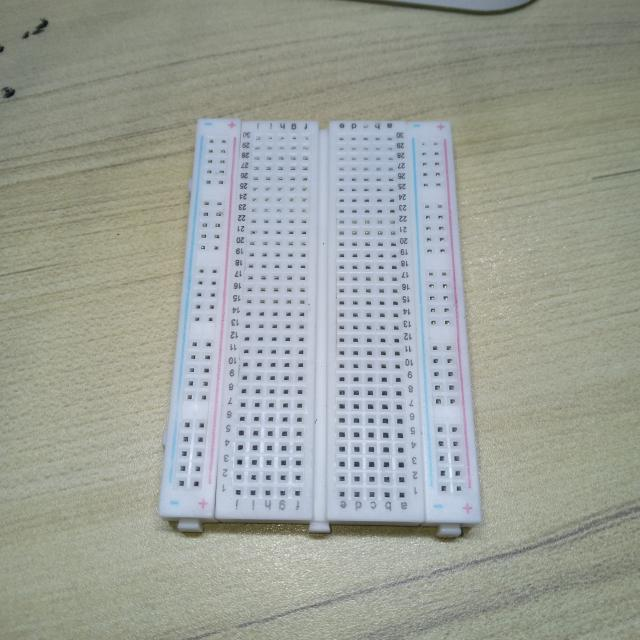breadboard: (156, 104, 490, 546)
